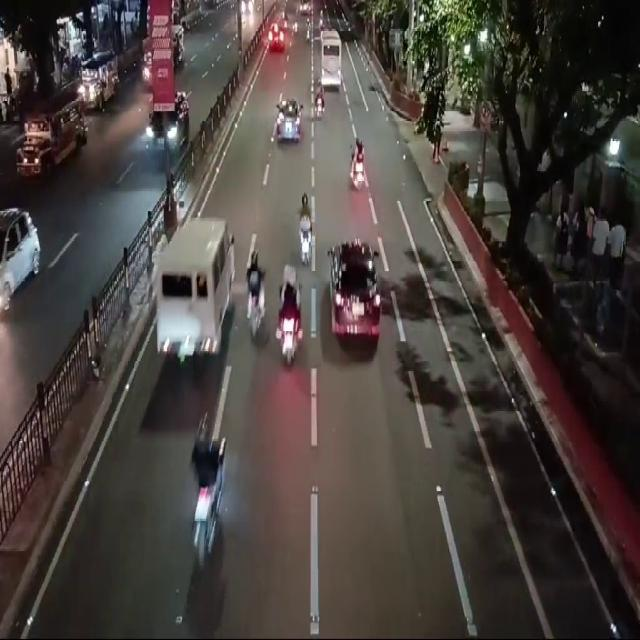bus: (319, 28, 345, 92)
car: (153, 213, 232, 362), (329, 237, 375, 346), (147, 95, 193, 161), (271, 90, 306, 147), (270, 19, 286, 53)
jeepney: (16, 88, 90, 183), (81, 50, 117, 116)
motorcycle: (189, 416, 230, 568), (270, 258, 308, 367), (240, 238, 268, 339), (299, 187, 316, 268), (348, 136, 368, 195), (310, 77, 326, 121)
